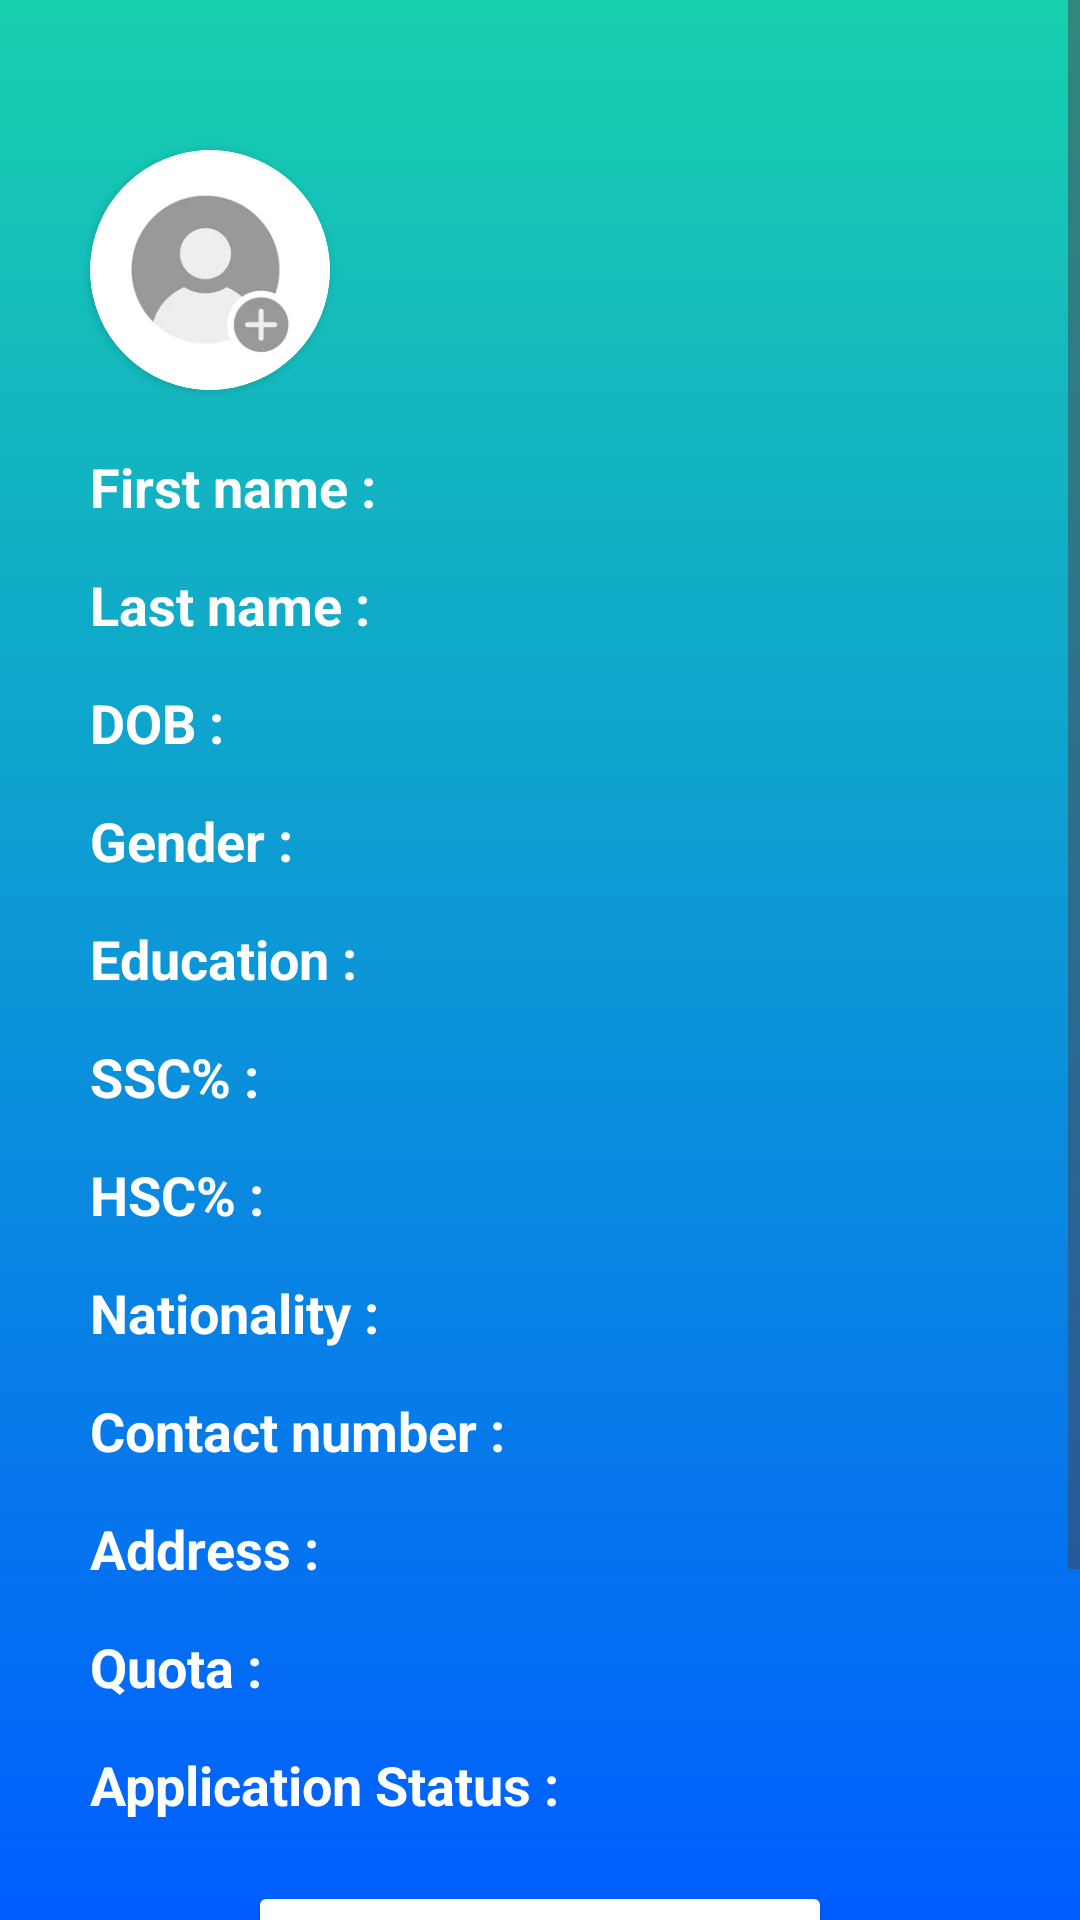

Where icons sit on this 1080*1920 app screen, as (x1, y1, x2, y2):
add profile: (90, 150, 330, 390)
